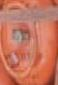cylinder: (1, 1, 58, 85)
